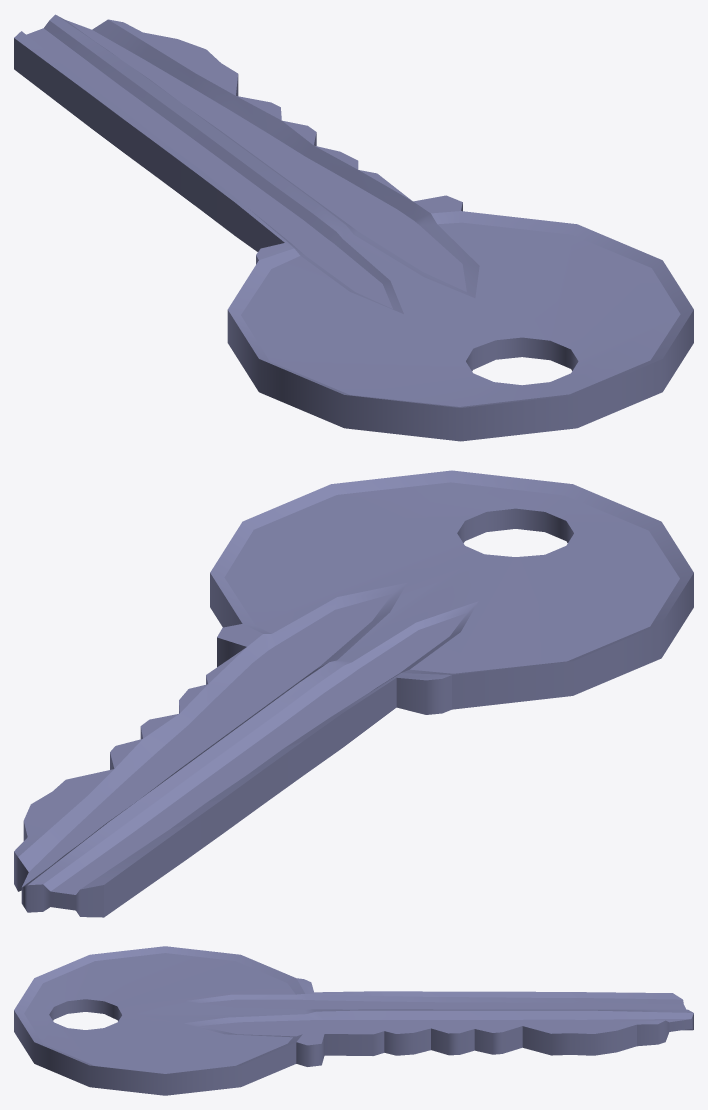
File: Llave.fbx
3 views of the same model, one above another, from view 1: azimuth 30°, elevation 25°; view 2: azimuth 150°, elevation 25°; view 3: azimuth 270°, elevation 25° (orthographic). The views are drawn at different scales.
Visible parts, largest first — view 1: Llave; view 2: Llave; view 3: Llave.
Boxes of the visible parts, box(x1,y1,x2,y2) form: Llave: box(14, 14, 693, 441); Llave: box(14, 470, 693, 917); Llave: box(14, 946, 693, 1095).
Bounding box in the file's own units: 0.015 × 0.00119 × 0.0337.
